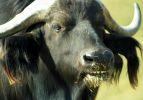Buffalo: (5, 0, 143, 100)
